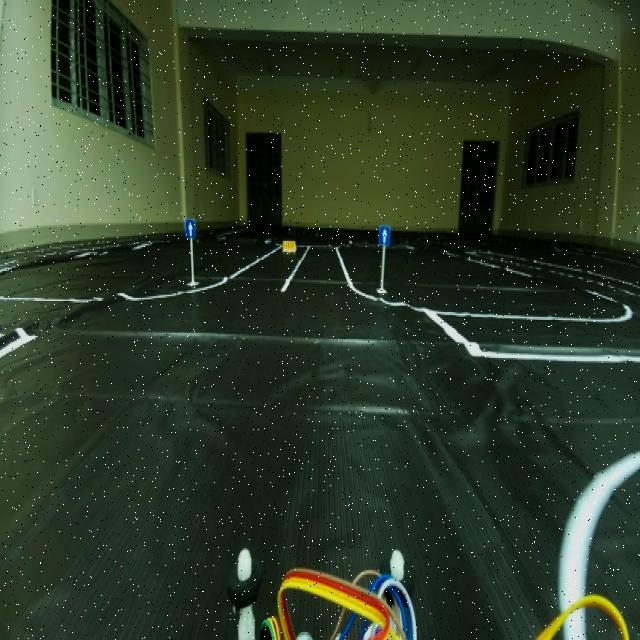onewayroad: (378, 222, 394, 250), (184, 214, 197, 242)
roadblock: (277, 237, 297, 254)
